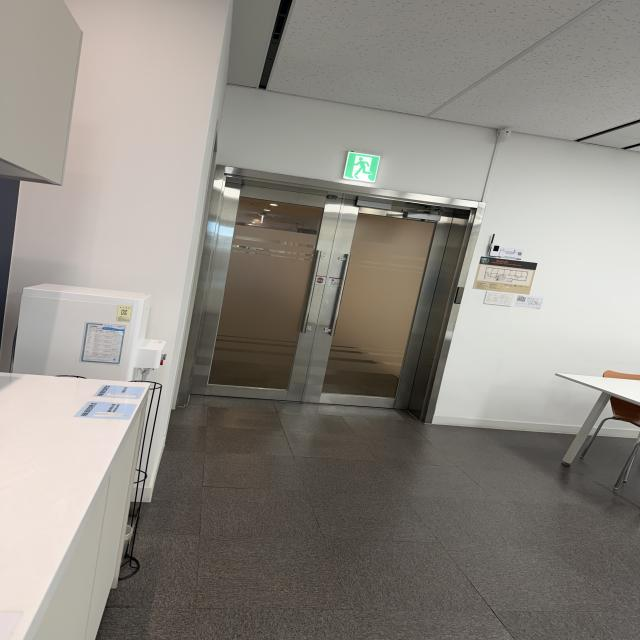rear_door: (186, 180, 458, 412)
